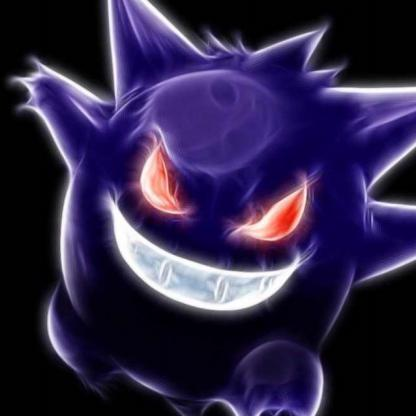Gengar: (29, 1, 416, 416)
